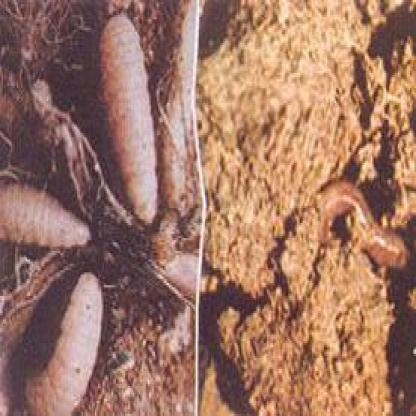whorl-maggot: (98, 16, 162, 226), (25, 268, 104, 415), (2, 180, 93, 249)
